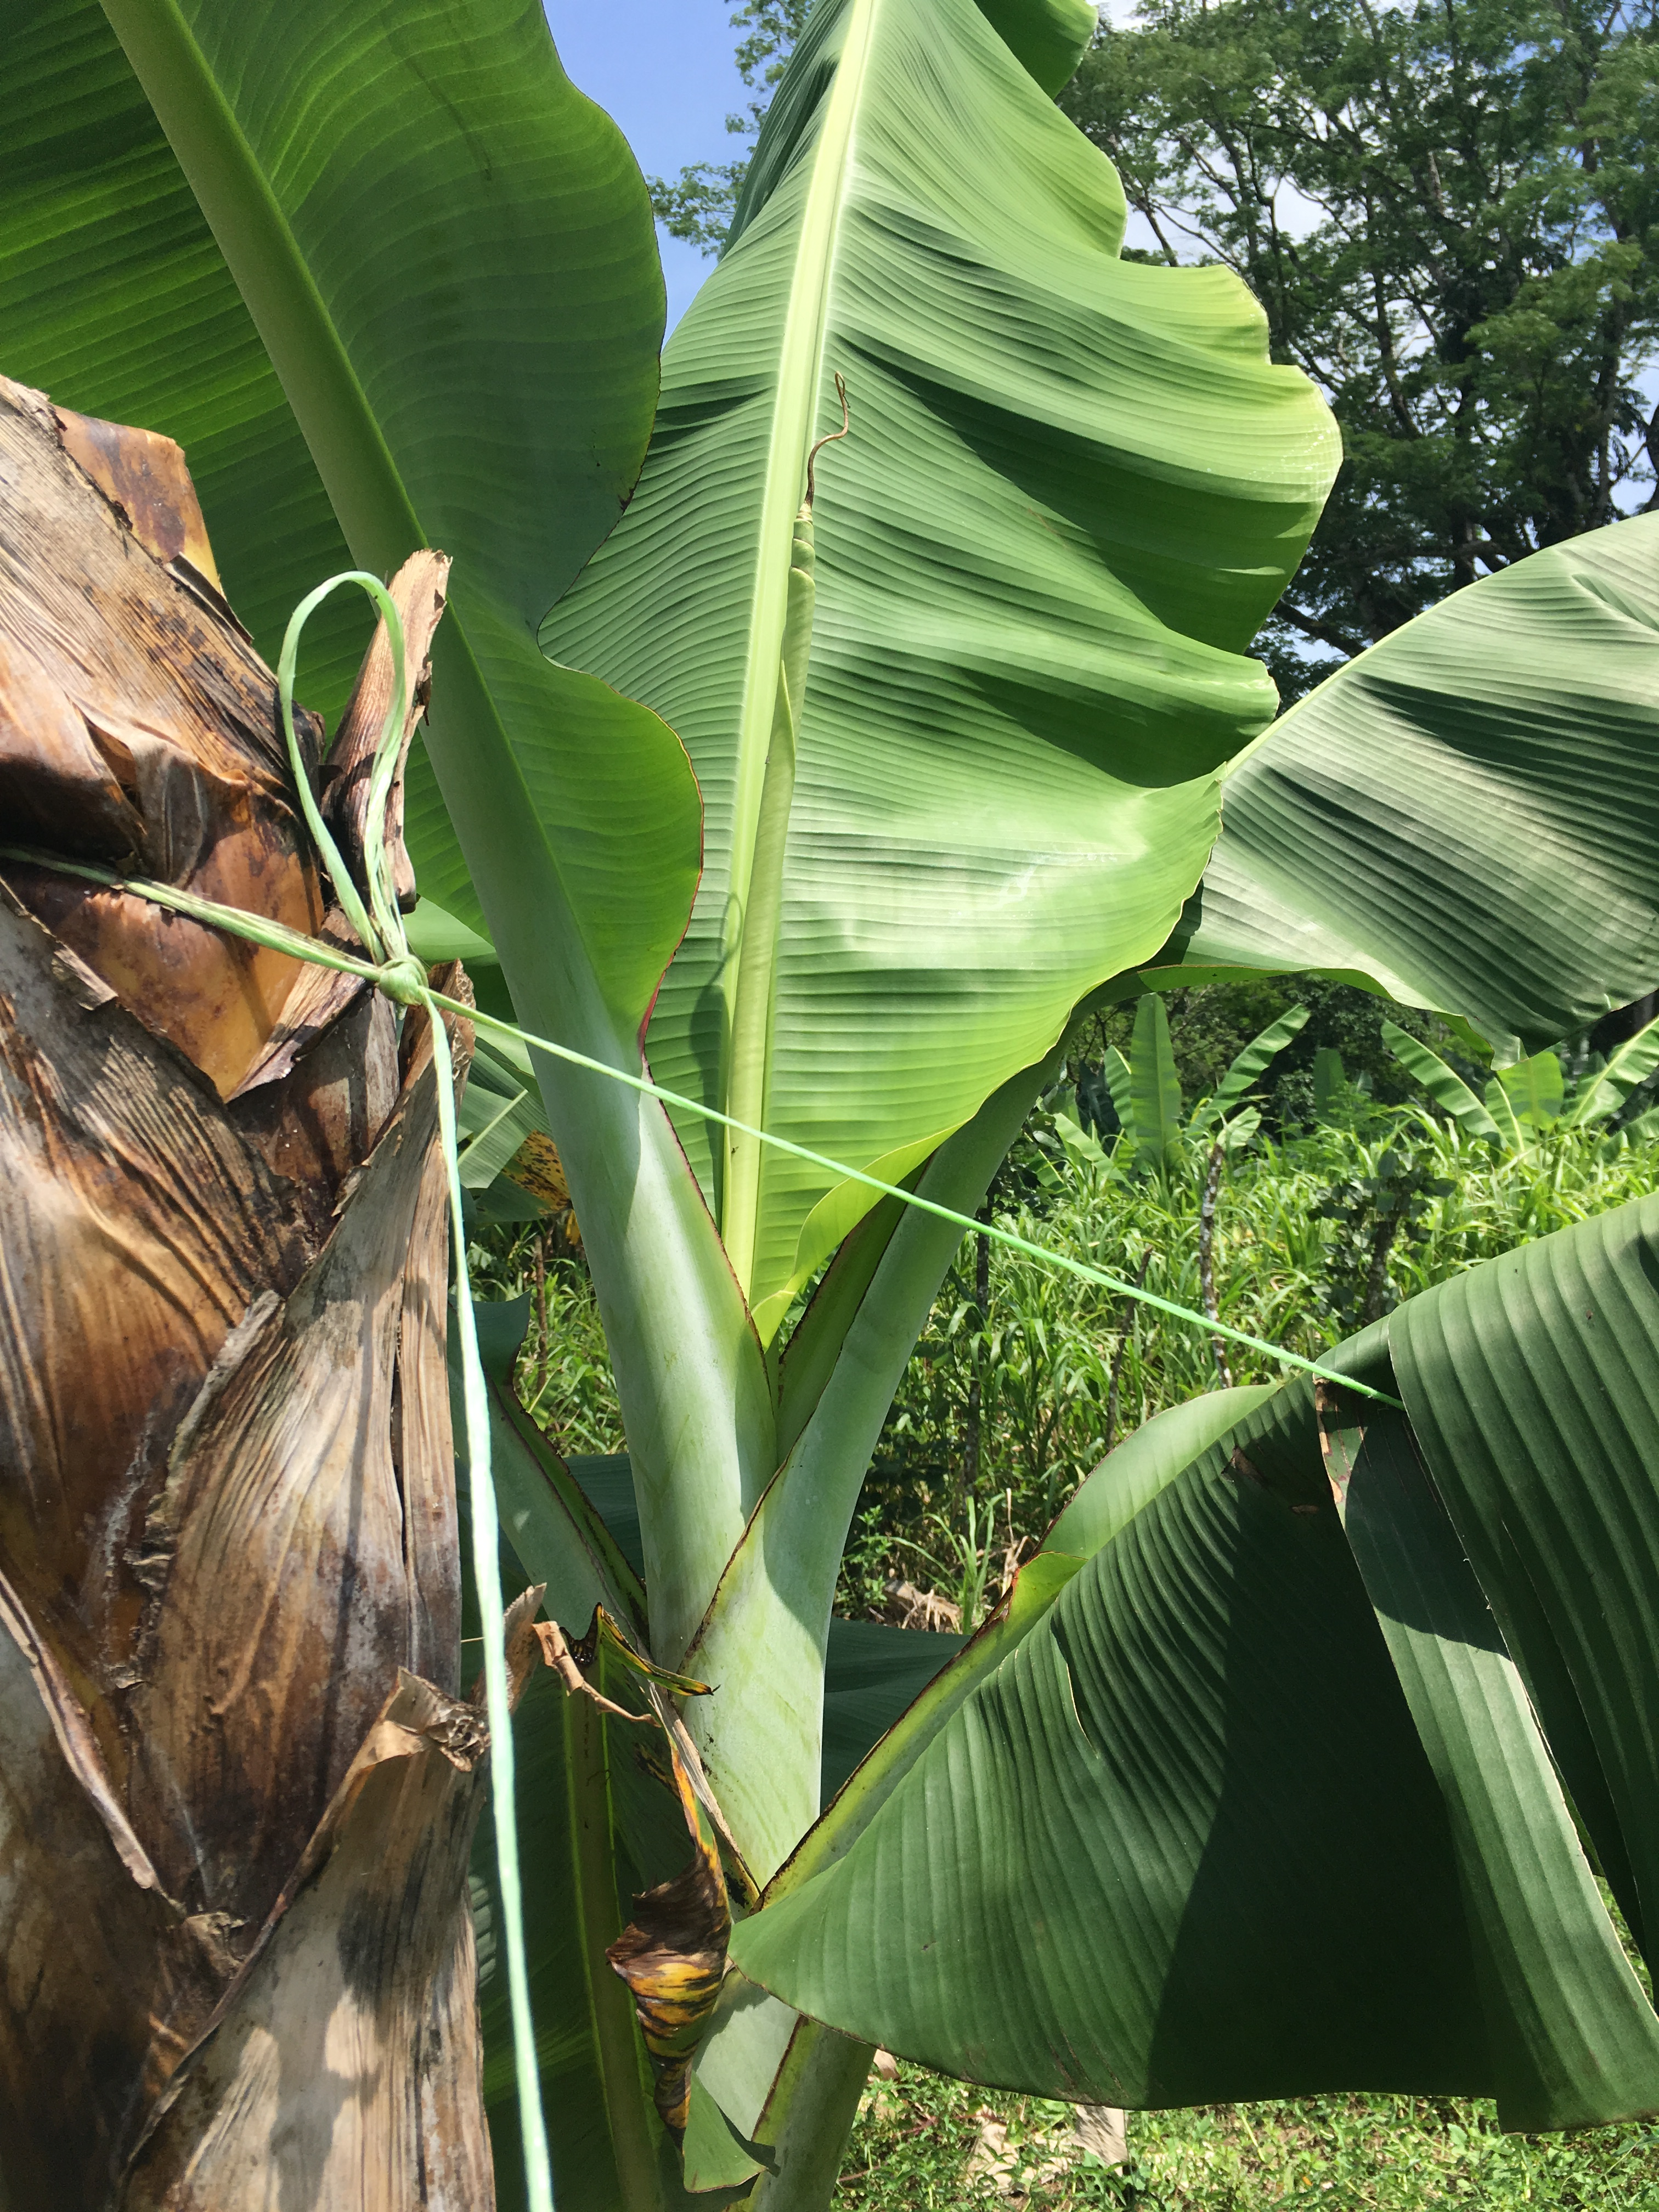candleleafs: (721, 368, 852, 1235)
